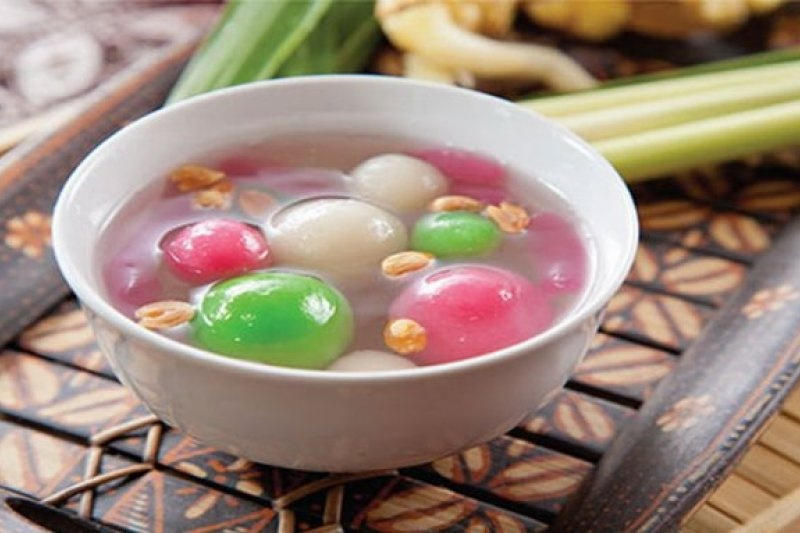ronde: (89, 132, 598, 376)
